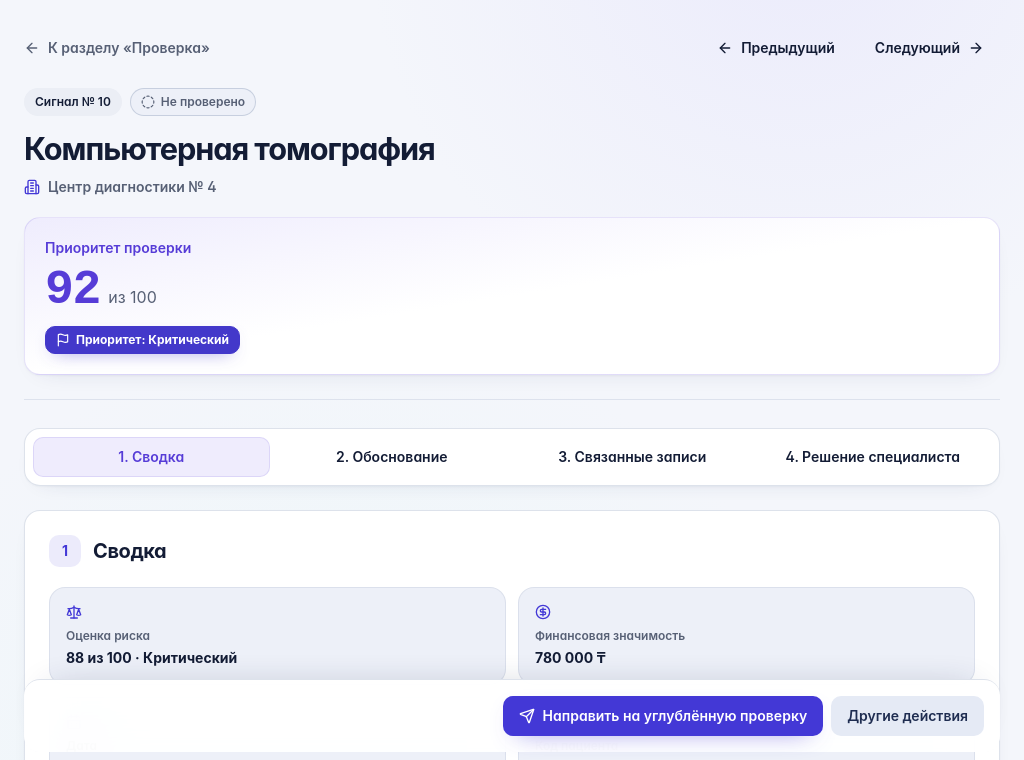
Test case: пошаговая карточка сигнала › обновляет статус и историю без перезагрузки
expect the heading "Компьютерная томография" is shown: met, box x1=24 y1=130 x2=435 y2=167
Click the heading "Другие действия" at [908, 716], box x1=831 y1=696 x2=984 y2=736
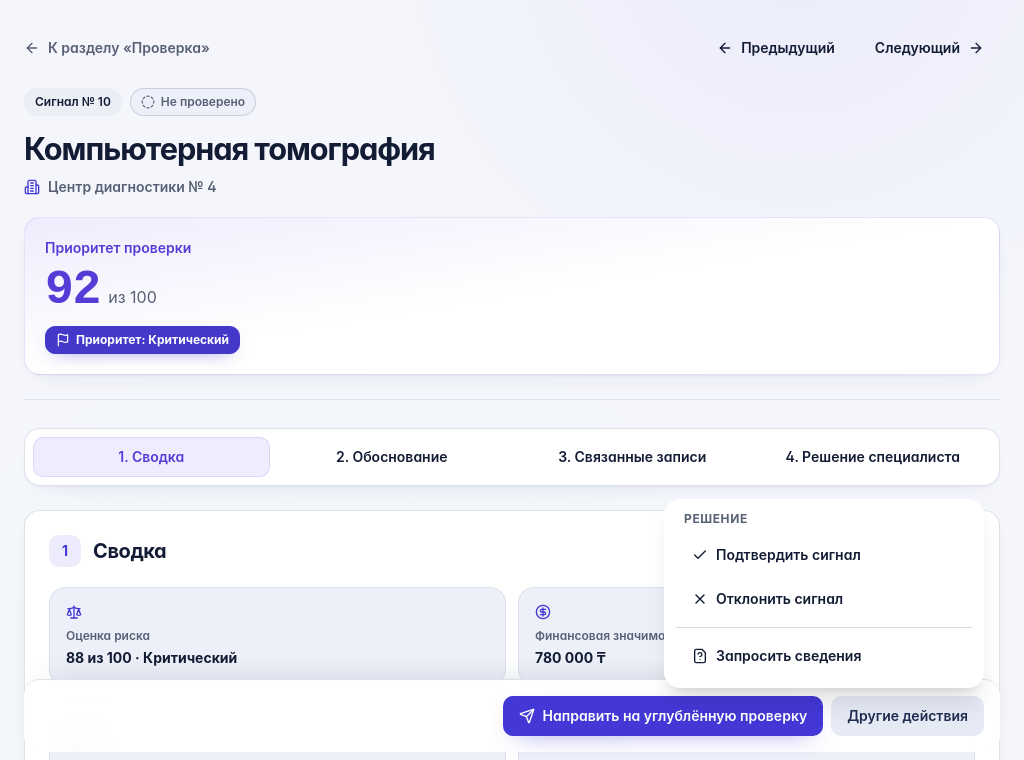
Click the button "Подтвердить сигнал" at [824, 555], box x1=676 y1=535 x2=972 y2=575
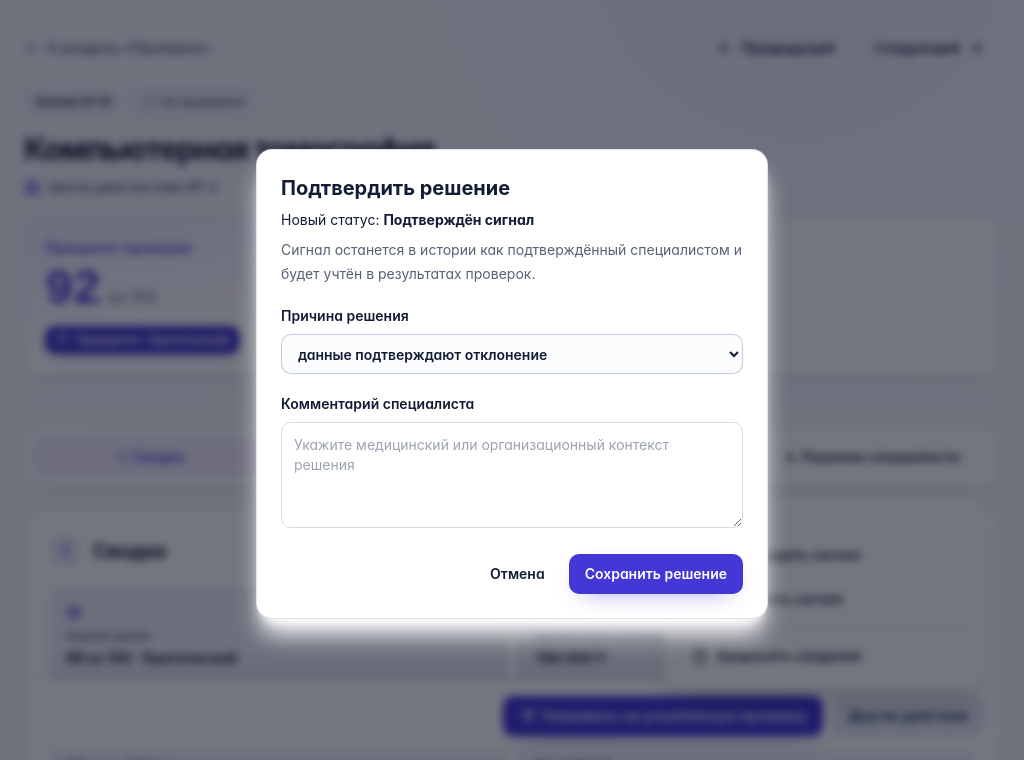
Type "Данные сопоставлены." into the text box labelled "Комментарий специалиста" at [512, 475], box x1=281 y1=422 x2=743 y2=528
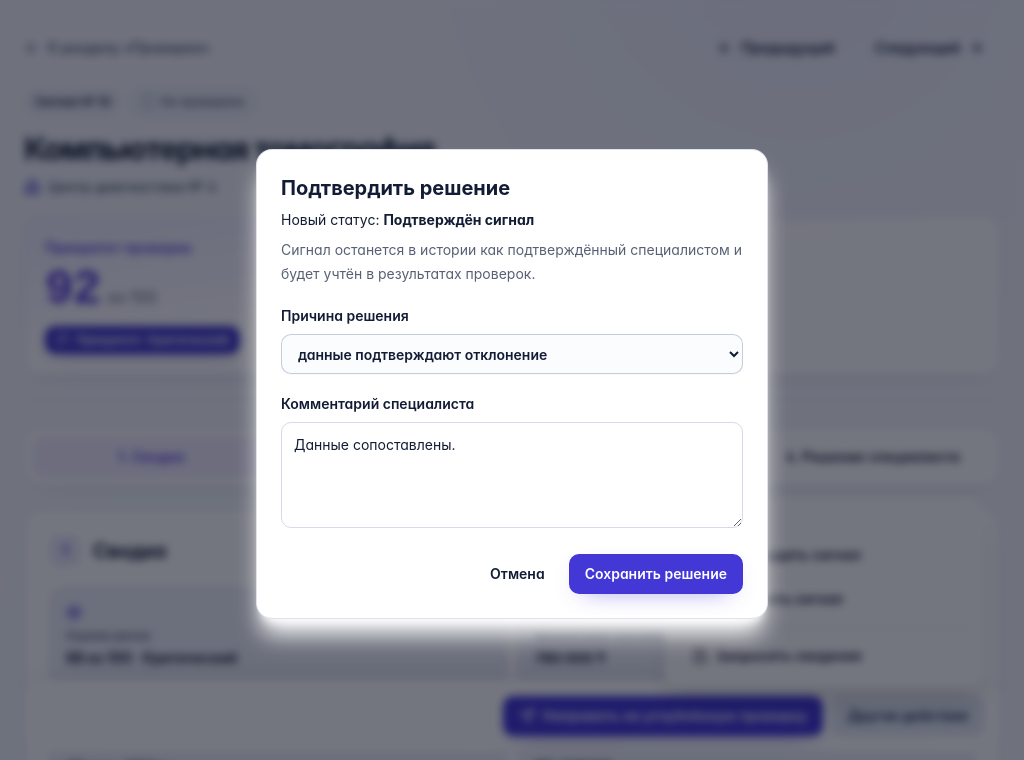
Click the button "Сохранить решение" at [656, 574], box x1=569 y1=554 x2=743 y2=594
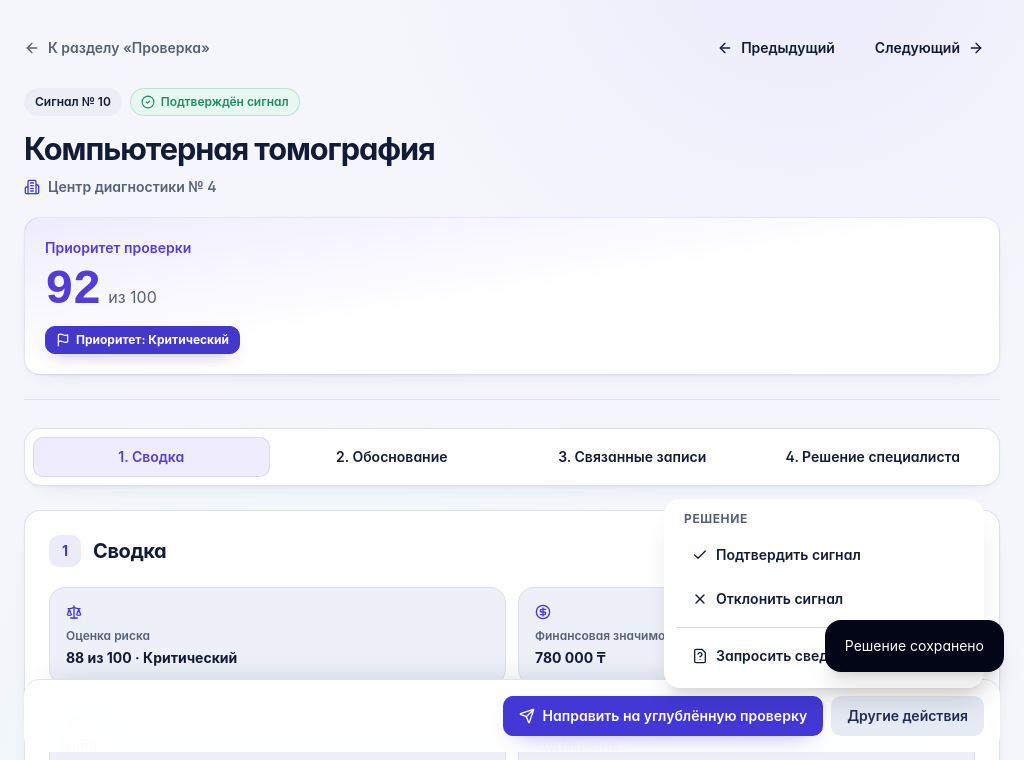
expect the text "Подтверждён сигнал" is shown: met, box x1=161 y1=96 x2=289 y2=108
